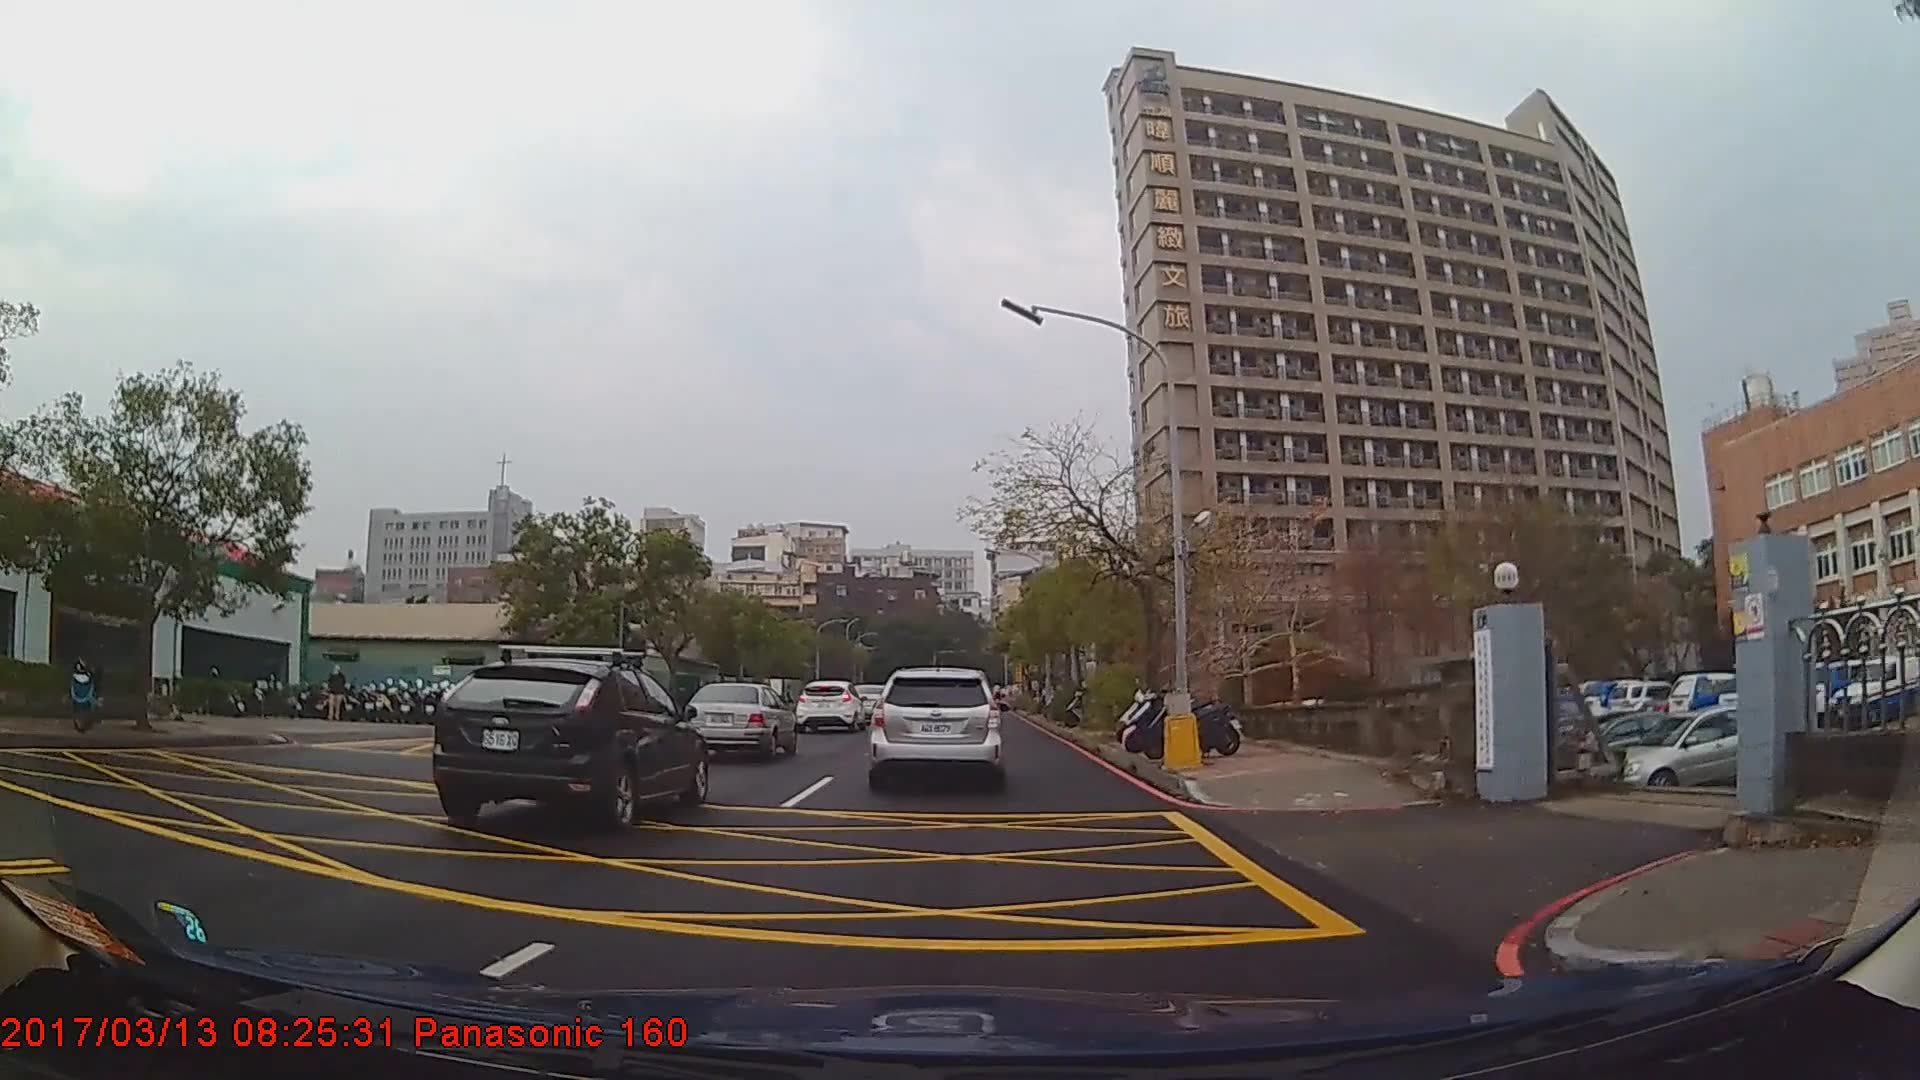pedestrian: (328, 663, 348, 721)
vehicle: (428, 655, 706, 833), (869, 665, 1000, 787), (1607, 705, 1796, 790), (681, 679, 798, 760), (795, 678, 865, 733)
